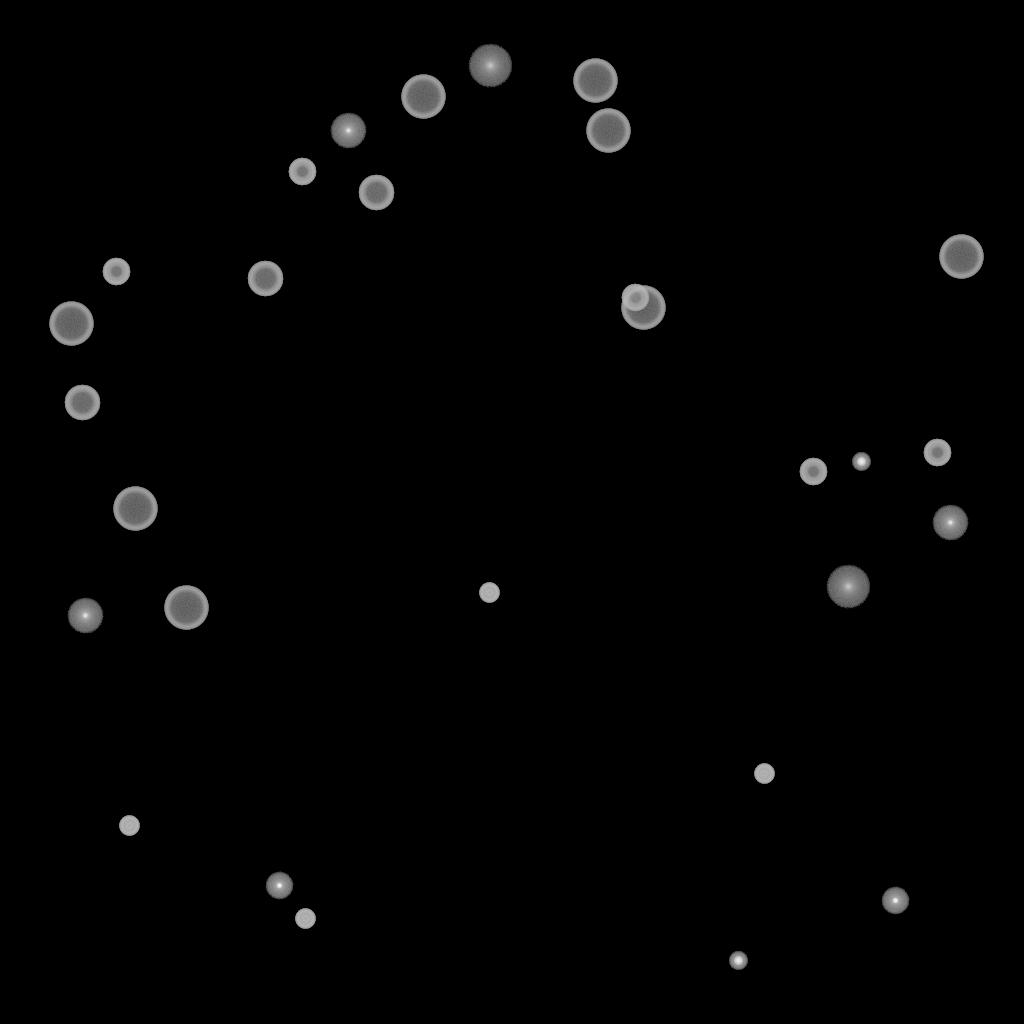depth:-10: (265, 872, 293, 900), (881, 887, 909, 915)
depth:-20: (729, 952, 747, 970), (852, 453, 870, 471)
depth:-40: (479, 583, 499, 603), (295, 909, 315, 929), (754, 764, 774, 784), (119, 816, 139, 836)
depth:-50: (102, 258, 130, 286), (288, 158, 316, 186), (621, 284, 649, 312), (923, 439, 951, 467), (799, 458, 827, 486)
depth:-60: (358, 175, 394, 211), (247, 261, 283, 297), (64, 385, 100, 421)
depth:-70: (49, 302, 93, 346), (573, 59, 617, 103), (939, 235, 983, 279), (113, 487, 157, 531), (621, 286, 665, 330), (586, 109, 630, 153), (401, 75, 445, 119), (164, 586, 208, 630)
depth:0: (932, 505, 968, 541), (67, 598, 103, 634), (330, 113, 366, 149)
depth:10: (826, 565, 870, 609), (468, 44, 512, 88)
